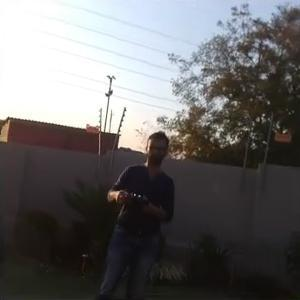follow: (93, 126, 180, 298)
